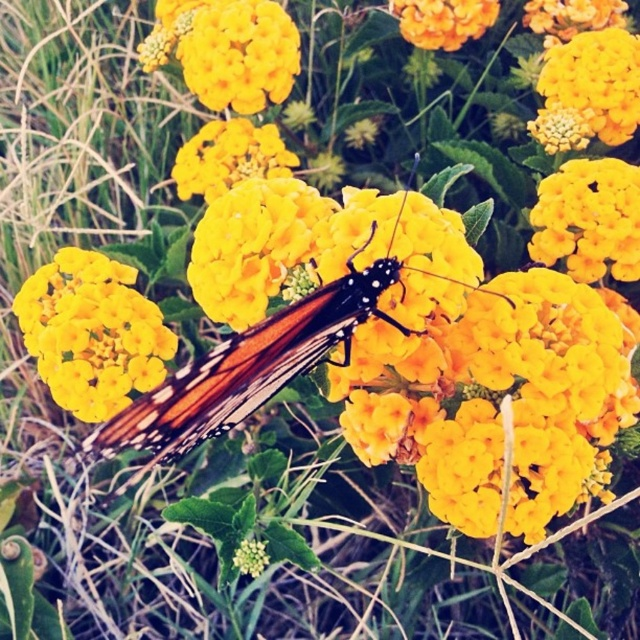Butterfly: (78, 152, 518, 462)
